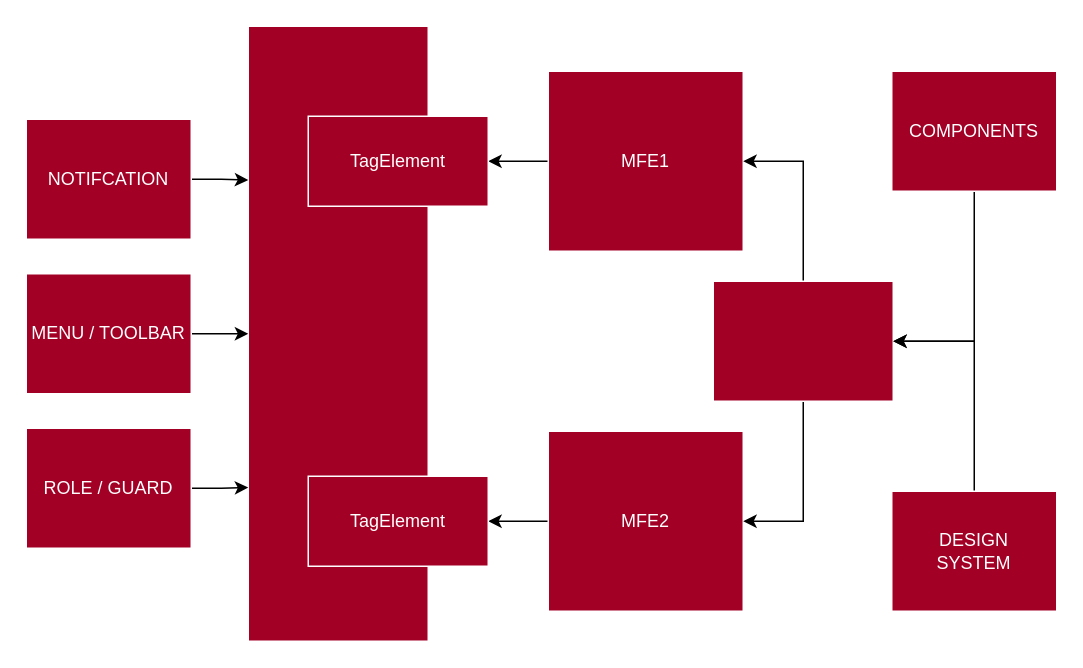
Image size: 1083x668. Some labels were removed from this diagram. Each missing label, with the box of its shape:
CODEBASE: (712, 280, 893, 401)
SHELL: (247, 25, 428, 641)
